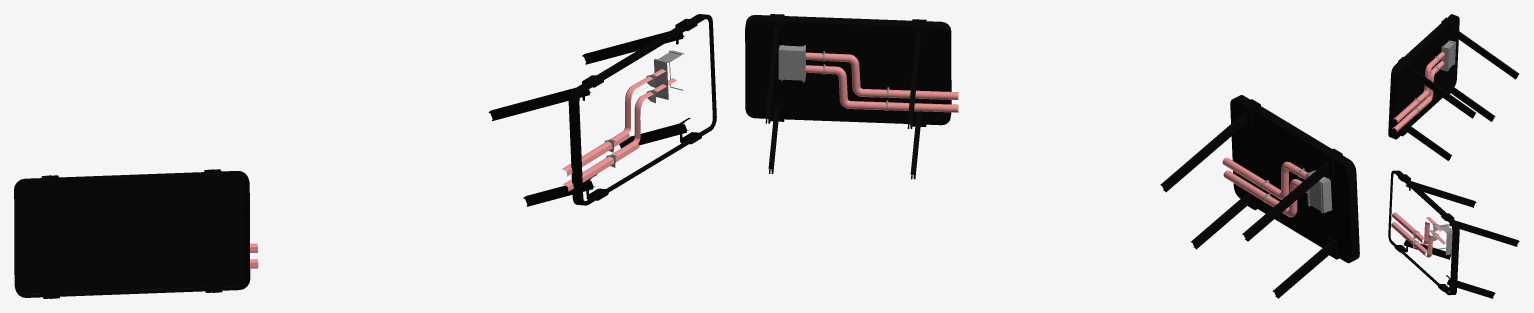
Rendered from SM_ENV_LKNVLD_VideoScreen_02.gltf.
3 renders of one model, left to right at view 1: azimuth 30°, elevation 25°; view 2: azimuth 150°, elevation 25°; view 3: azimuth 270°, elevation 25°, orthographic. The views are drawn at different scales.
Visible parts, largest first — view 1: SM_ENV_LKNVLD_VideoScreen_02; view 2: SM_ENV_LKNVLD_VideoScreen_02; view 3: SM_ENV_LKNVLD_VideoScreen_02.
Part boxes in pixels (x1,y1,x2,y2): SM_ENV_LKNVLD_VideoScreen_02: (14, 14, 716, 298); SM_ENV_LKNVLD_VideoScreen_02: (745, 14, 1359, 298); SM_ENV_LKNVLD_VideoScreen_02: (1388, 14, 1519, 298).
Bounding box in the file's own units: 25.2 × 5.09 × 6.53.
